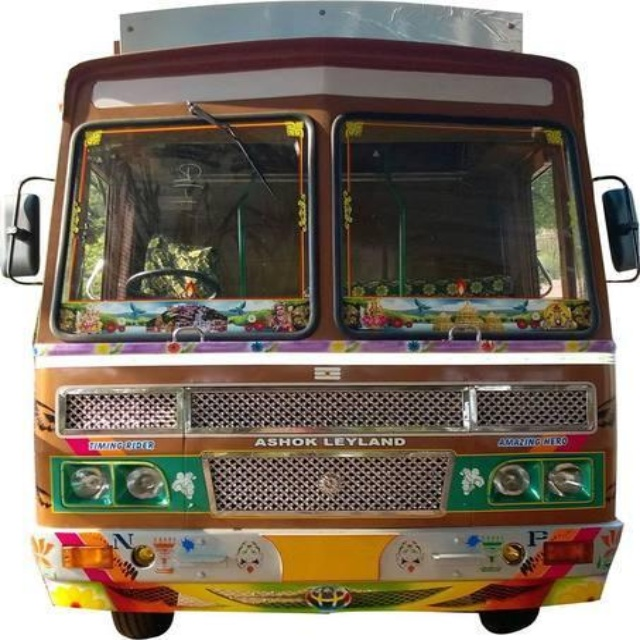Truck: (1, 3, 640, 639)
